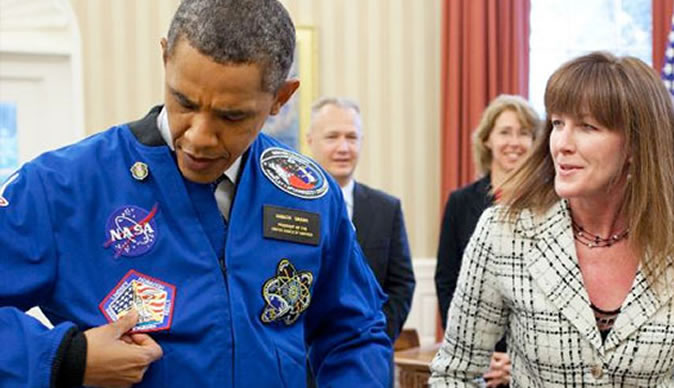NASA: (102, 206, 159, 258)
